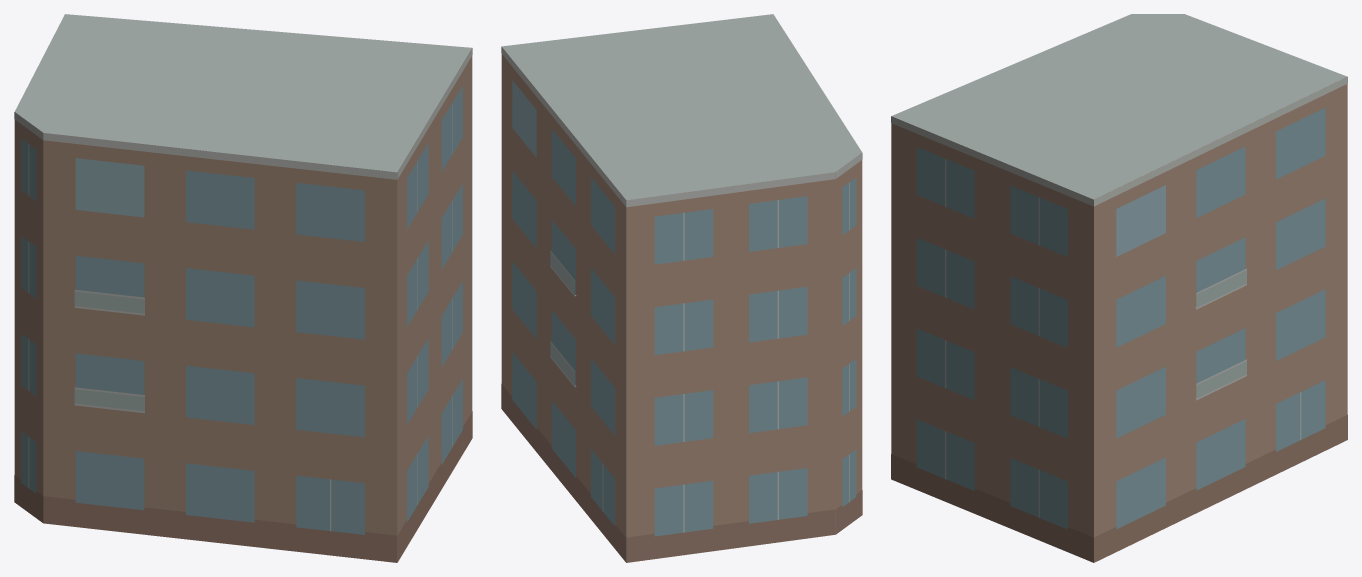
File: survey-upis-32761276.glb
The picture shows the model from 3 angles, left to right: view 1: azimuth 30°, elevation 25°; view 2: azimuth 150°, elevation 25°; view 3: azimuth 270°, elevation 25°; orthographic projection. The views are drawn at different scales.
Visible parts, largest first — view 1: survey-upis-32761276.tmp; view 2: survey-upis-32761276.tmp; view 3: survey-upis-32761276.tmp.
Part boxes in pixels (box(x1,y1,x2,y2)): survey-upis-32761276.tmp: box(14, 14, 472, 562); survey-upis-32761276.tmp: box(501, 14, 862, 562); survey-upis-32761276.tmp: box(891, 14, 1347, 562).
Bounding box in the file's own units: 14.04 × 12.8 × 14.59.
